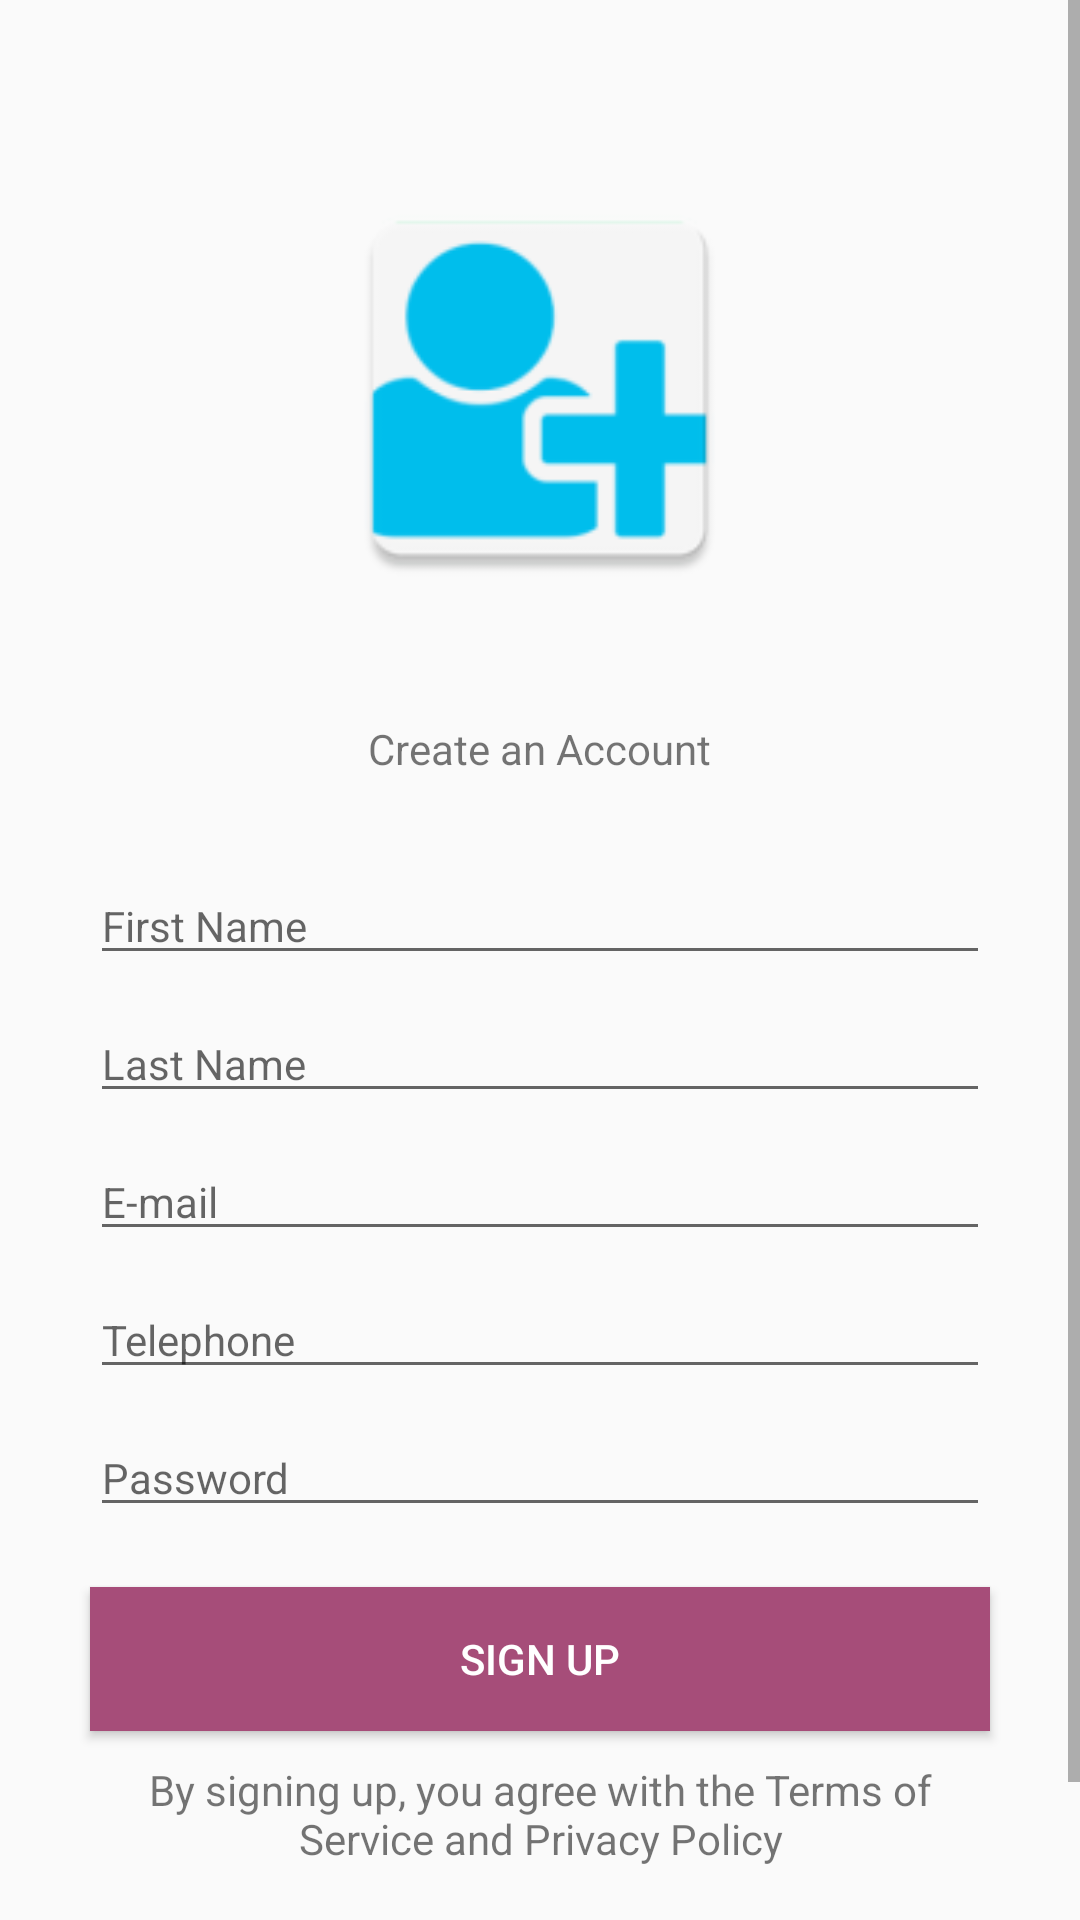

Icon click points for this 1080 x 1920 phone screenshot, format point (x, y):
user: point (539, 404)
